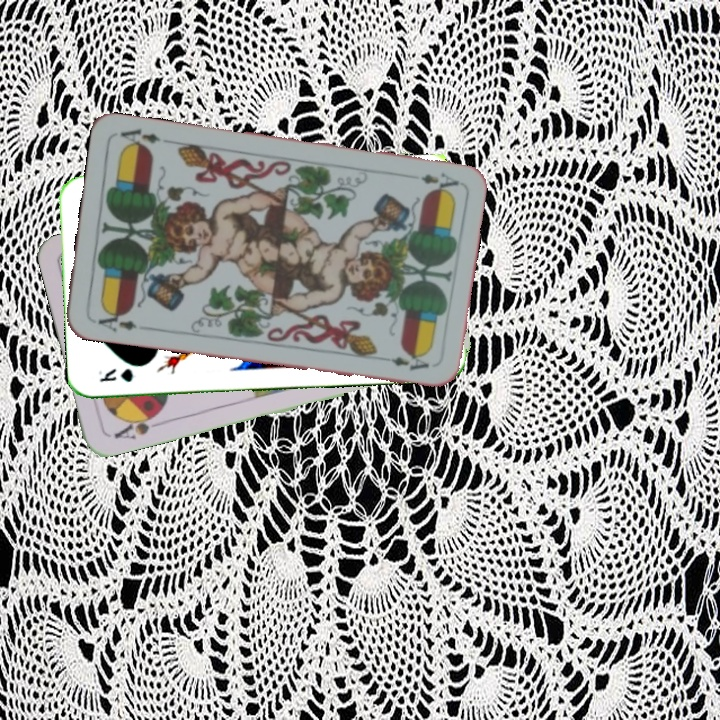EA: (94, 306, 139, 335), (417, 168, 461, 194)
GK: (94, 364, 135, 385)
SA: (110, 408, 166, 442)
